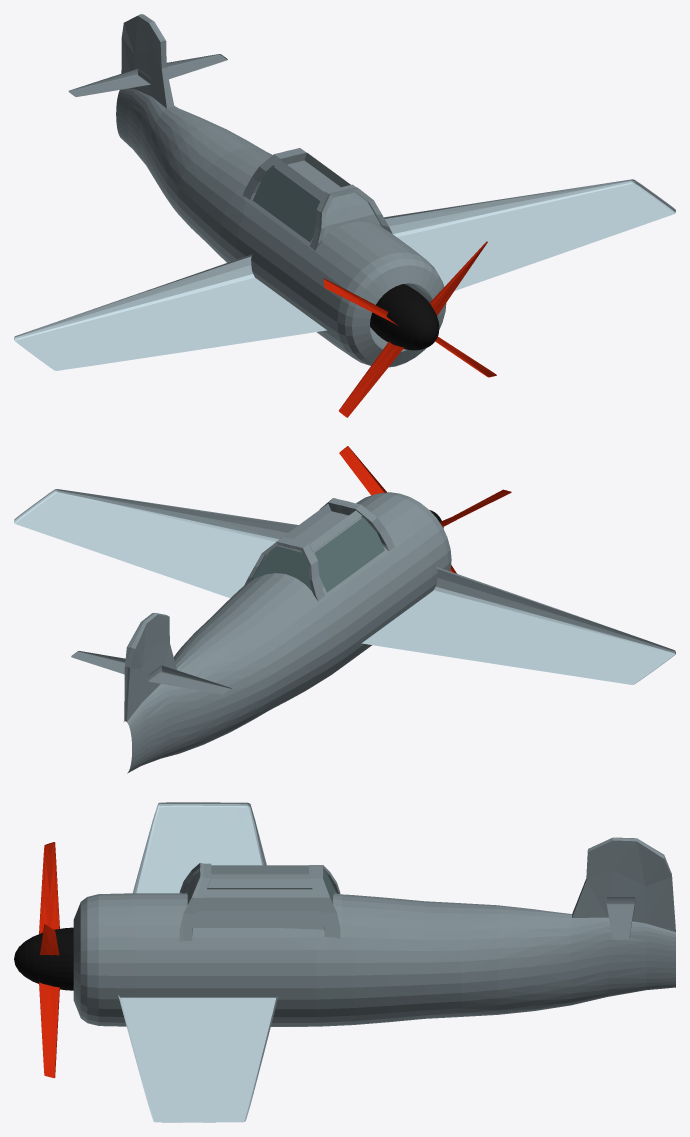
The model's file is Fighter.glb.
3 views of the same model, one above another, from view 1: azimuth 30°, elevation 25°; view 2: azimuth 150°, elevation 25°; view 3: azimuth 270°, elevation 25° (orthographic). The views are drawn at different scales.
Parts seen in each view (by area): view 1: Cube_Cube.001; view 2: Cube_Cube.001; view 3: Cube_Cube.001.
Boxes of the visible parts, x1,y1,x2,y2 form: Cube_Cube.001: (14,14,675,417); Cube_Cube.001: (14,446,675,773); Cube_Cube.001: (14,802,675,1122).
Size of the model in its own units: 3.19 by 0.9172 by 2.73.
